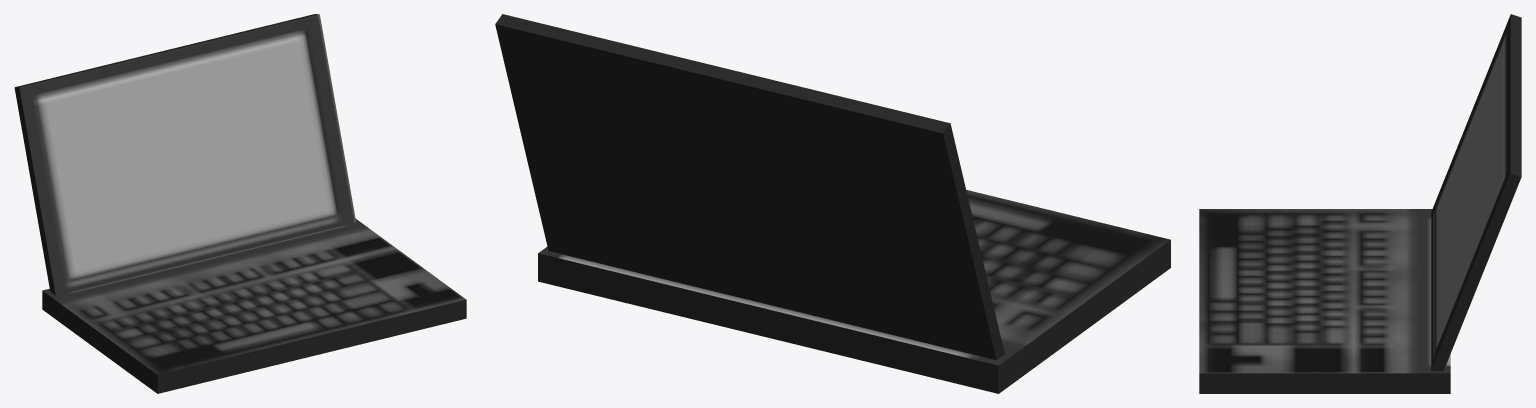
The model's file is LapTop.fbx.
3 views of the same model, side by side, from view 1: azimuth 30°, elevation 25°; view 2: azimuth 150°, elevation 25°; view 3: azimuth 270°, elevation 25° (orthographic). The views are drawn at different scales.
Visible parts, largest first — view 1: Maya_File_Assets:TexturedAssetsCurrent:Laptop; view 2: Maya_File_Assets:TexturedAssetsCurrent:Laptop; view 3: Maya_File_Assets:TexturedAssetsCurrent:Laptop.
Part boxes in pixels (left/top/right/bottom): Maya_File_Assets:TexturedAssetsCurrent:Laptop: left=14, top=14, right=466, bottom=393; Maya_File_Assets:TexturedAssetsCurrent:Laptop: left=495, top=14, right=1170, bottom=393; Maya_File_Assets:TexturedAssetsCurrent:Laptop: left=1199, top=14, right=1521, bottom=393.
Bounding box in the file's own units: 0.5068 × 0.3145 × 0.4204.
